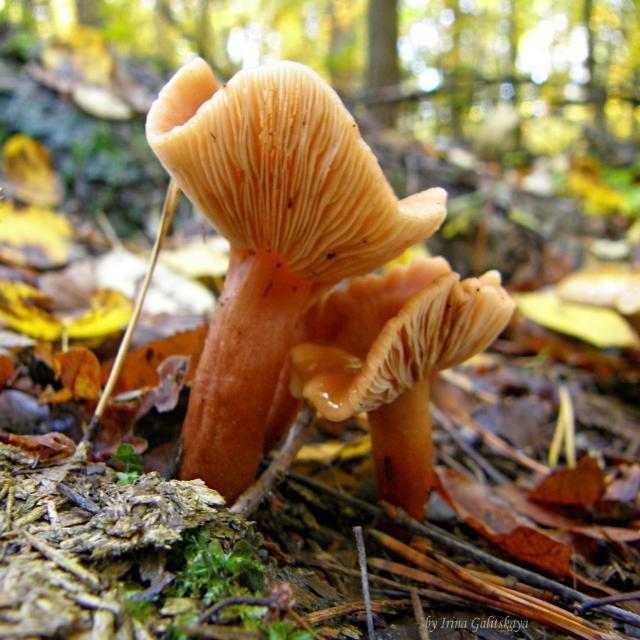Cantharellus cibarius: (148, 53, 516, 527)
